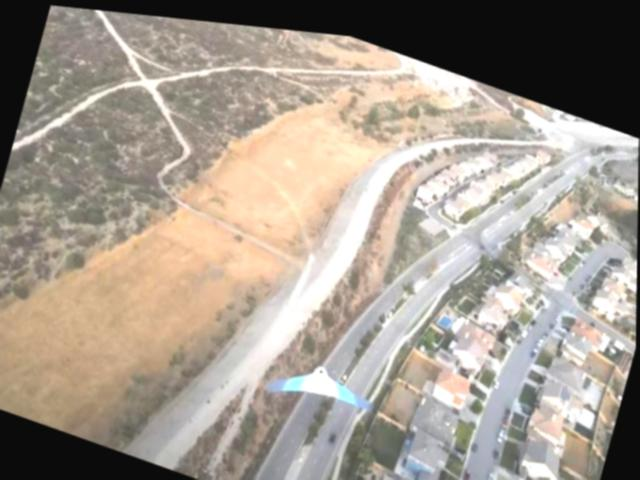iha: (268, 344, 377, 420)
